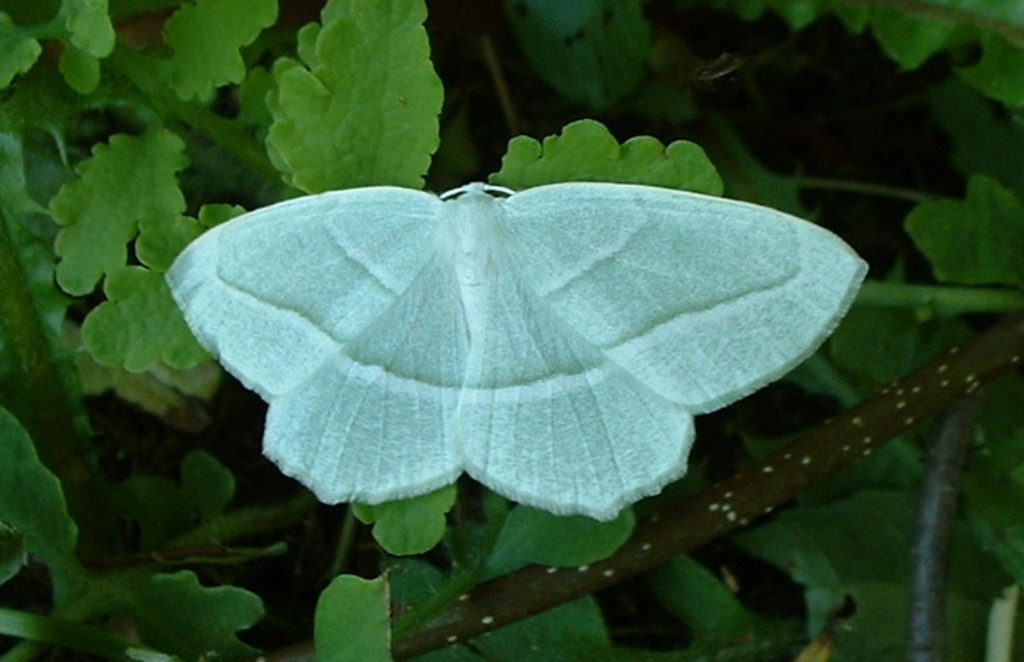Butterfly: (154, 154, 880, 517)
